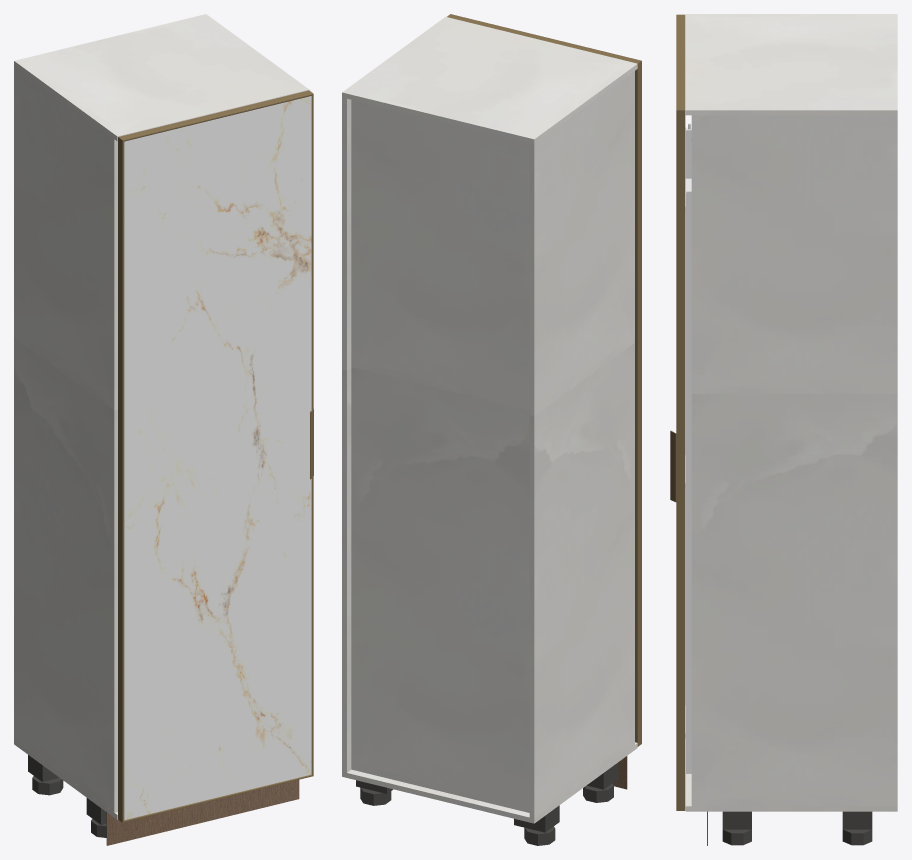
File: TC-AC-TTS-ST-XXX-LHS-TPT-600-2040-560-15.glb
The picture shows the model from 3 angles, left to right: view 1: azimuth 30°, elevation 25°; view 2: azimuth 150°, elevation 25°; view 3: azimuth 270°, elevation 25°; orthographic projection. The views are drawn at different scales.
Visible parts, largest first — view 1: Object_node_28, TP_node_0, TP, Extrusion_node_1, Object_node_30, Extrusion_node, Extrusion, TP_node; view 2: TP_node_2, TP_node_0, TP, TP_node_1, Extrusion_node_1, TP_node, Extrusion; view 3: TP_node_1, TP, Extrusion_node, Tandem Pantry 600 mm Soft Close 6 levels, TP_node, Extrusion, Plate_node, Plate_node_1, ExtrSplGeo, Foot_node, Foot_node_1.
Boxes of the visible parts, x1,y1,x2,y2 form: Object_node_28: (124, 96, 311, 819); TP_node_0: (14, 66, 117, 812); TP: (14, 14, 309, 141); Extrusion_node_1: (118, 137, 124, 822); Object_node_30: (106, 780, 299, 845); Extrusion_node: (311, 94, 313, 775); Extrusion: (118, 90, 313, 141); TP_node: (14, 739, 117, 819); TP_node_2: (351, 100, 529, 812); TP_node_0: (529, 71, 634, 818); TP: (342, 17, 637, 144); TP_node_1: (342, 97, 351, 772); Extrusion_node_1: (635, 61, 641, 746); TP_node: (342, 742, 637, 823); Extrusion: (447, 14, 641, 63); TP_node_1: (691, 115, 897, 806); TP: (685, 14, 897, 115); Extrusion_node: (676, 110, 685, 810); Tandem Pantry 600 mm Soft Close 6 levels: (685, 123, 691, 773); TP_node: (685, 739, 897, 811); Extrusion: (676, 14, 685, 110); Plate_node: (842, 811, 872, 829); Plate_node_1: (722, 811, 751, 829); ExtrSplGeo: (670, 430, 676, 502); Foot_node: (842, 829, 872, 845); Foot_node_1: (722, 829, 751, 845).
Size of what is drawn, in the model's own units: 0.6 by 2.14 by 0.6.
Materials: 9 (3 with a texture image).
